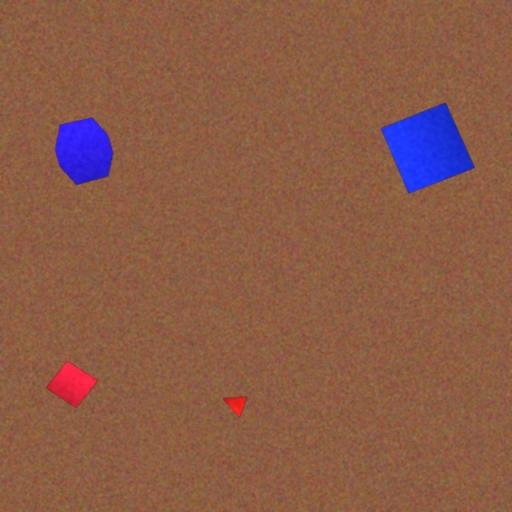BLUE_SQUARE: (380, 102, 475, 194)
RED_SQUARE: (45, 361, 99, 409)
